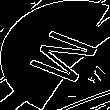M_SE: (12, 23, 98, 87)
